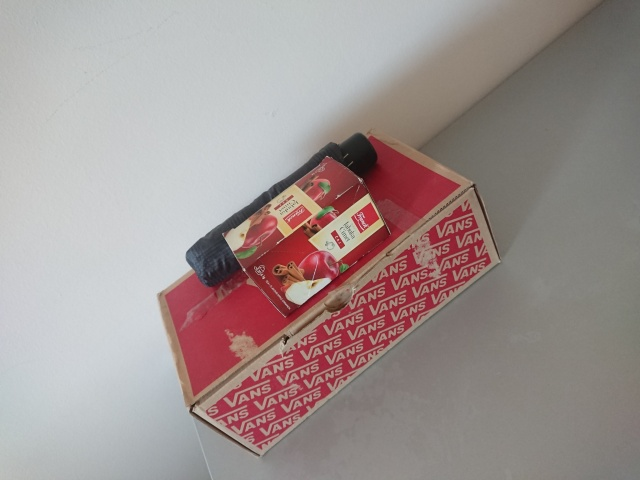Franck Apple Cinnamon Tea 60g: (219, 153, 392, 320)
